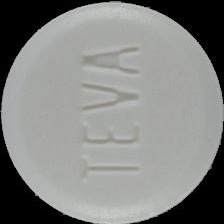0093-0834: (0, 0, 224, 224)
